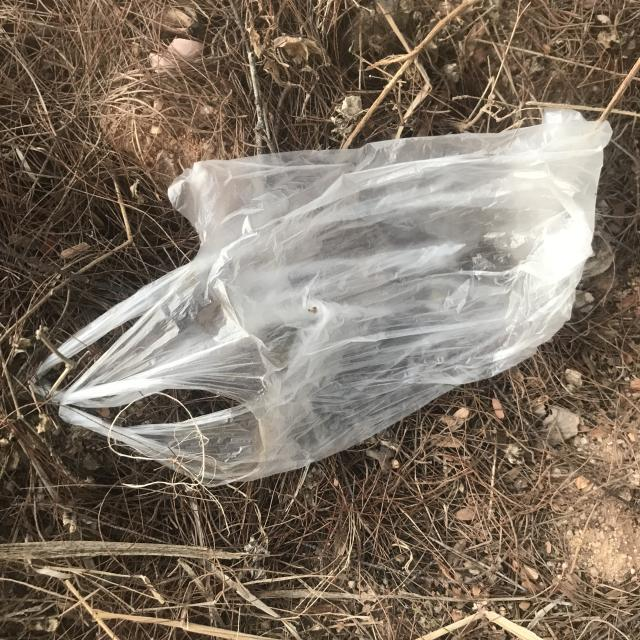Single-layer Plastic: (32, 109, 611, 485)
